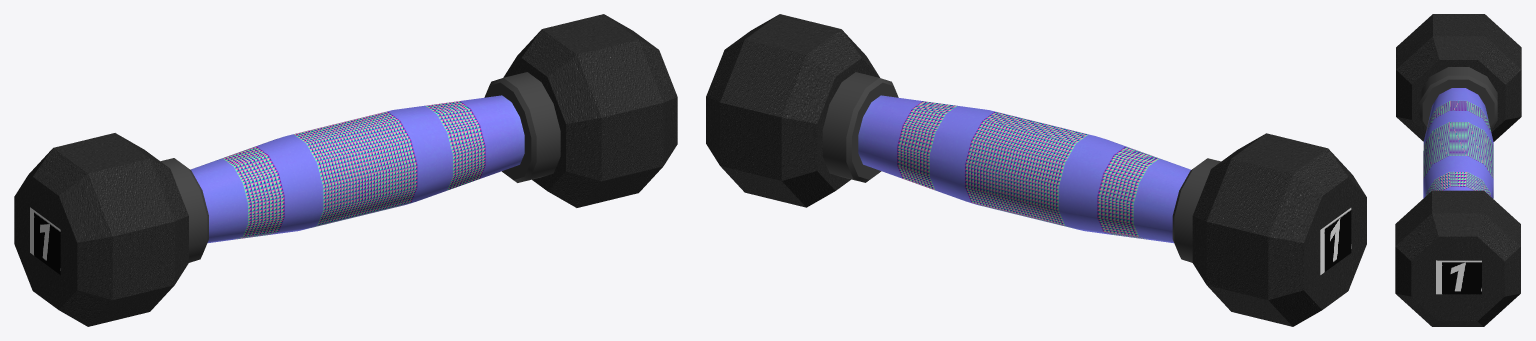
File: Dumbbell_1kG.FBX
3 views of the same model, side by side, from view 1: azimuth 30°, elevation 25°; view 2: azimuth 150°, elevation 25°; view 3: azimuth 270°, elevation 25° (orthographic). The views are drawn at different scales.
Visible parts, largest first — view 1: Dumbbell_1kG; view 2: Dumbbell_1kG; view 3: Dumbbell_1kG.
Boxes of the visible parts, x1,y1,x2,y2 form: Dumbbell_1kG: (14, 14, 677, 326); Dumbbell_1kG: (706, 14, 1366, 326); Dumbbell_1kG: (1395, 14, 1521, 326).
Bounding box in the file's own units: 0.2372 × 0.0583 × 0.0579.
